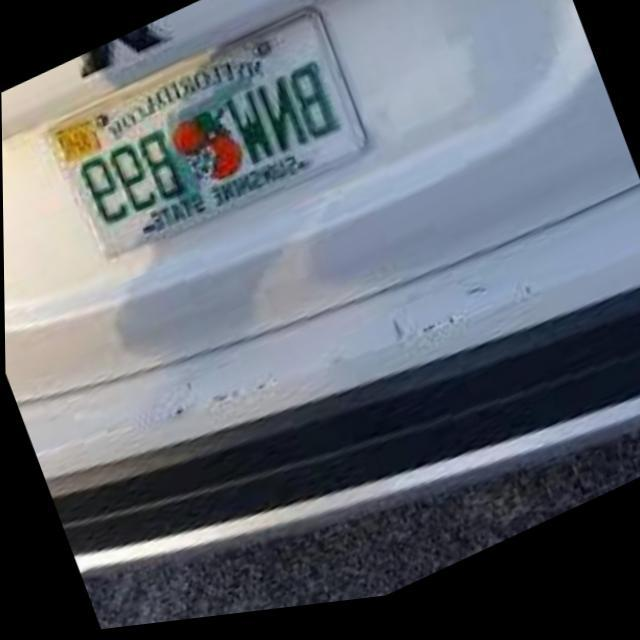scratch: (148, 261, 640, 438)
